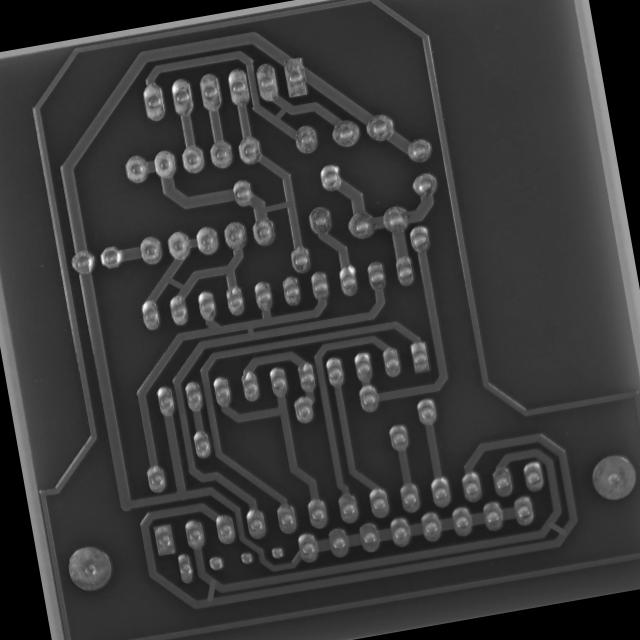short: (537, 509, 579, 550), (251, 192, 302, 223), (194, 570, 232, 610), (155, 268, 191, 302), (264, 100, 298, 126), (236, 316, 262, 344)
